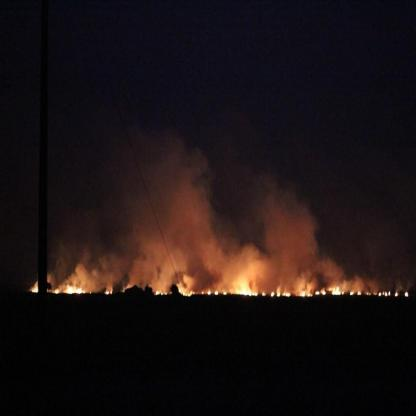fire: (20, 262, 410, 298)
